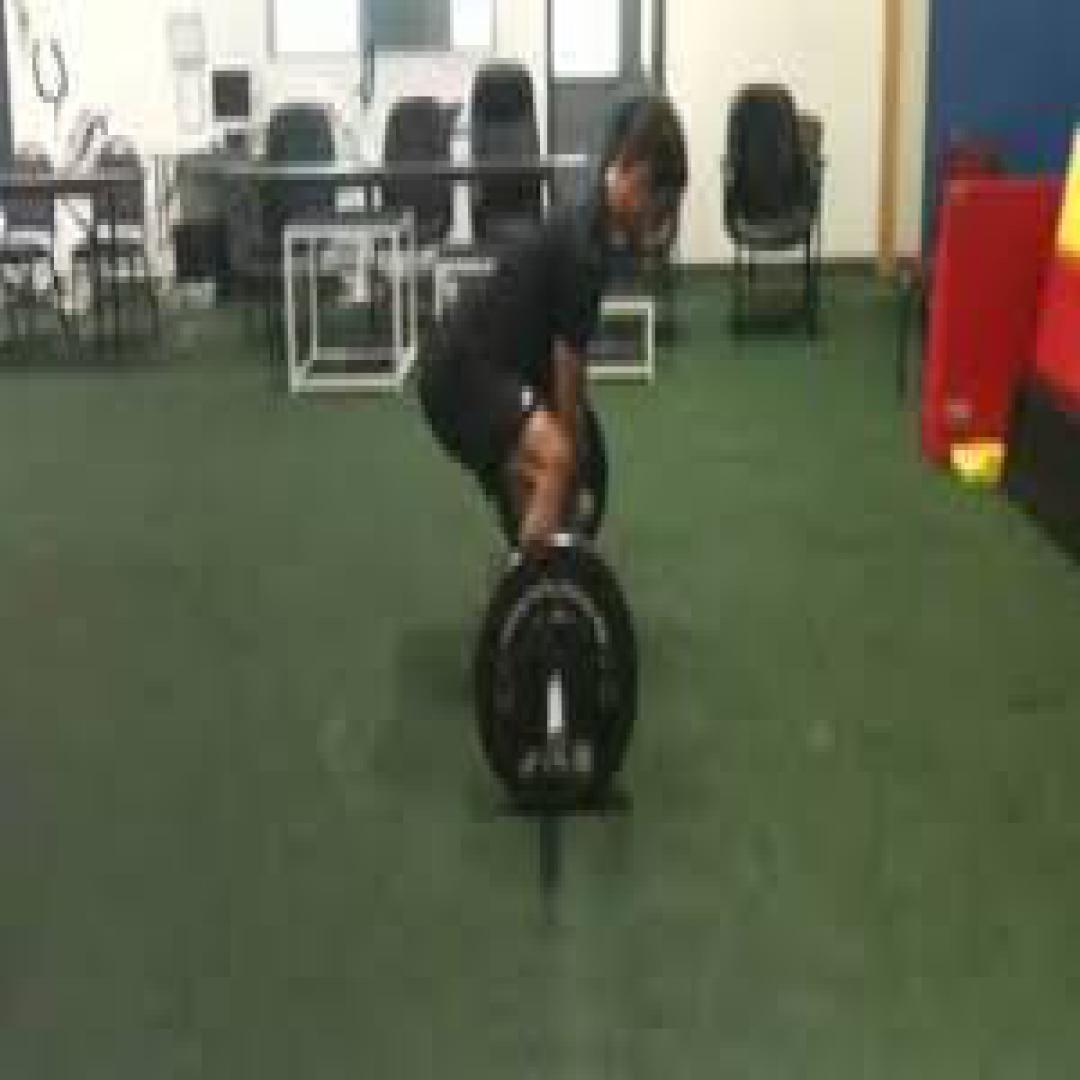Bar: (544, 720, 568, 771)
Barbell: (475, 546, 637, 810)
